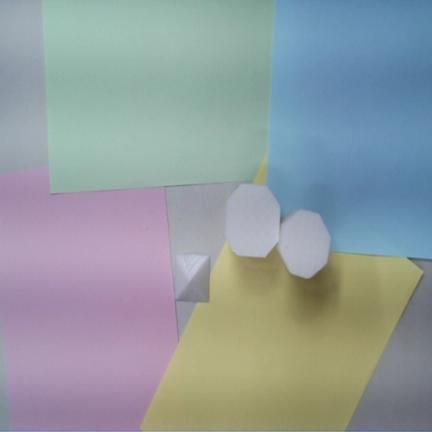Piramide: (174, 254, 210, 302)
Prisma_hexagonal: (225, 184, 280, 258), (276, 208, 331, 280)
